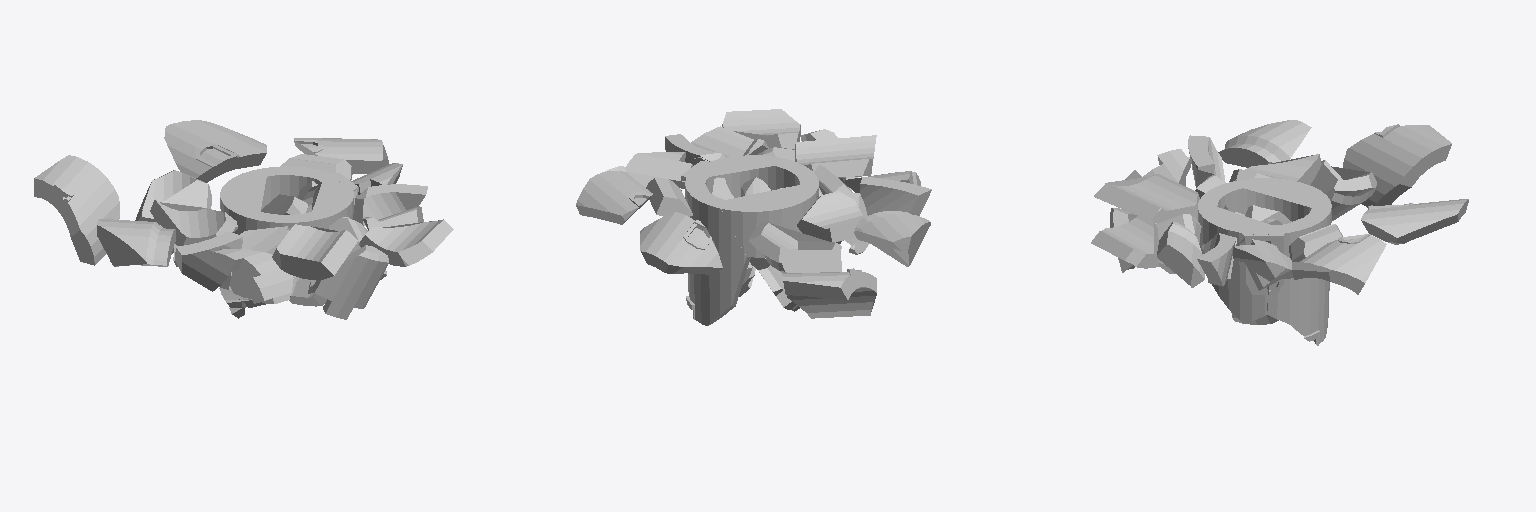
The model's file is destruction_tower_000080.obj.
The picture shows the model from 3 angles: view 1: azimuth 30°, elevation 25°; view 2: azimuth 150°, elevation 25°; view 3: azimuth 270°, elevation 25°; orthographic projection.
Parts seen in each view (by area): view 1: tower.001_cell.003_Mesh.003, tower.001_cell.025_Mesh.025, tower.001_cell.024_Mesh.024, tower.001_cell.011_Mesh.011, tower.001_cell.005_Mesh.005, tower.001_cell.006_Mesh.006, tower.001_cell.021_Mesh.021, tower.001_cell.009_Mesh.009, tower.001_cell.012_Mesh.012, tower.001_cell.002_Mesh.002, tower.001_cell.007_Mesh.007, tower.001_cell.010_Mesh.010 (+11 smaller); view 2: tower.001_cell.017_Mesh.017, tower.001_cell.025_Mesh.025, tower.001_cell.003_Mesh.003, tower.001_cell.015_Mesh.015, tower.001_cell.007_Mesh.007, tower.001_cell.012_Mesh.012, tower.001_cell.005_Mesh.005, tower.001_cell.024_Mesh.024, tower.001_cell.028_Mesh.028, tower.001_cell.009_Mesh.009, tower.001_cell.021_Mesh.021, tower.001_cell.002_Mesh.002 (+8 smaller); view 3: tower.001_cell.003_Mesh.003, tower.001_cell.012_Mesh.012, tower.001_cell.024_Mesh.024, tower.001_cell.017_Mesh.017, tower.001_cell.025_Mesh.025, tower.001_cell.005_Mesh.005, tower.001_cell.015_Mesh.015, tower.001_cell.021_Mesh.021, tower.001_cell.020_Mesh.020, tower.001_cell.007_Mesh.007, tower.001_cell.028_Mesh.028, tower.001_cell_Mesh (+9 smaller).
Part boxes in pixels (bbox=[...]): tower.001_cell.003_Mesh.003: bbox=[34, 155, 119, 265]; tower.001_cell.025_Mesh.025: bbox=[164, 120, 266, 182]; tower.001_cell.024_Mesh.024: bbox=[272, 224, 358, 279]; tower.001_cell.011_Mesh.011: bbox=[312, 245, 388, 319]; tower.001_cell.005_Mesh.005: bbox=[97, 219, 175, 266]; tower.001_cell.006_Mesh.006: bbox=[214, 249, 293, 303]; tower.001_cell.021_Mesh.021: bbox=[359, 219, 453, 266]; tower.001_cell.009_Mesh.009: bbox=[150, 199, 237, 245]; tower.001_cell.012_Mesh.012: bbox=[294, 138, 388, 173]; tower.001_cell.002_Mesh.002: bbox=[175, 231, 242, 291]; tower.001_cell.007_Mesh.007: bbox=[135, 170, 211, 266]; tower.001_cell.010_Mesh.010: bbox=[353, 184, 427, 225]; tower.001_cell.017_Mesh.017: bbox=[685, 179, 750, 325]; tower.001_cell.025_Mesh.025: bbox=[640, 212, 722, 275]; tower.001_cell.003_Mesh.003: bbox=[782, 268, 876, 318]; tower.001_cell.015_Mesh.015: bbox=[721, 185, 817, 257]; tower.001_cell.007_Mesh.007: bbox=[749, 223, 841, 272]; tower.001_cell.012_Mesh.012: bbox=[576, 166, 652, 224]; tower.001_cell.005_Mesh.005: bbox=[854, 211, 930, 266]; tower.001_cell.024_Mesh.024: bbox=[795, 135, 876, 177]; tower.001_cell.028_Mesh.028: bbox=[700, 155, 808, 197]; tower.001_cell.009_Mesh.009: bbox=[797, 191, 864, 241]; tower.001_cell.021_Mesh.021: bbox=[722, 109, 800, 149]; tower.001_cell.002_Mesh.002: bbox=[860, 177, 931, 215]; tower.001_cell.003_Mesh.003: bbox=[1343, 124, 1451, 207]; tower.001_cell.012_Mesh.012: bbox=[1292, 234, 1386, 294]; tower.001_cell.024_Mesh.024: bbox=[1094, 174, 1199, 223]; tower.001_cell.017_Mesh.017: bbox=[1289, 205, 1331, 345]; tower.001_cell.025_Mesh.025: bbox=[1361, 199, 1468, 244]; tower.001_cell.005_Mesh.005: bbox=[1218, 120, 1311, 167]; tower.001_cell.015_Mesh.015: bbox=[1243, 178, 1331, 221]; tower.001_cell.021_Mesh.021: bbox=[1091, 213, 1158, 268]; tower.001_cell.020_Mesh.020: bbox=[1212, 231, 1270, 323]; tower.001_cell.007_Mesh.007: bbox=[1310, 160, 1376, 220]; tower.001_cell.028_Mesh.028: bbox=[1198, 193, 1271, 253]; tower.001_cell_Mesh: bbox=[1157, 222, 1204, 287].
Bounding box in the file's own units: 112 × 44.39 × 121.